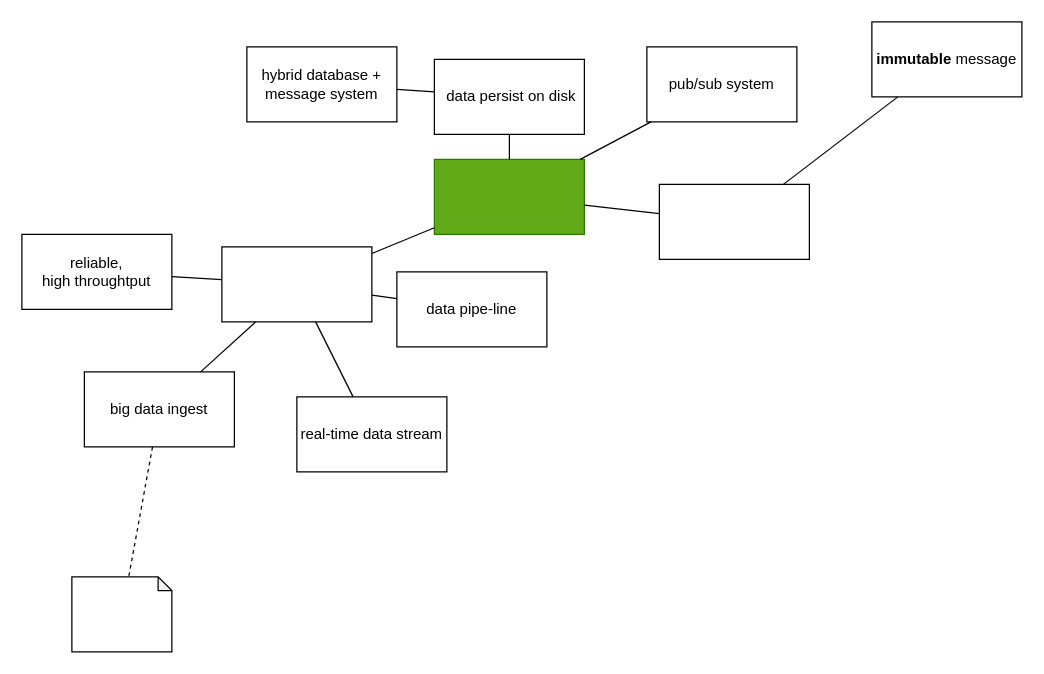
The diagram is 1044 pixels wide and 674 high, and some of its shapes have lost their labels. The centre of each missing label's shape, as x and y in pixels:
"distributed event log" goes at [733,221].
"main use" goes at [296,284].
"overview" goes at [508,196].
"đầu vào của bigdata" goes at [121,614].
